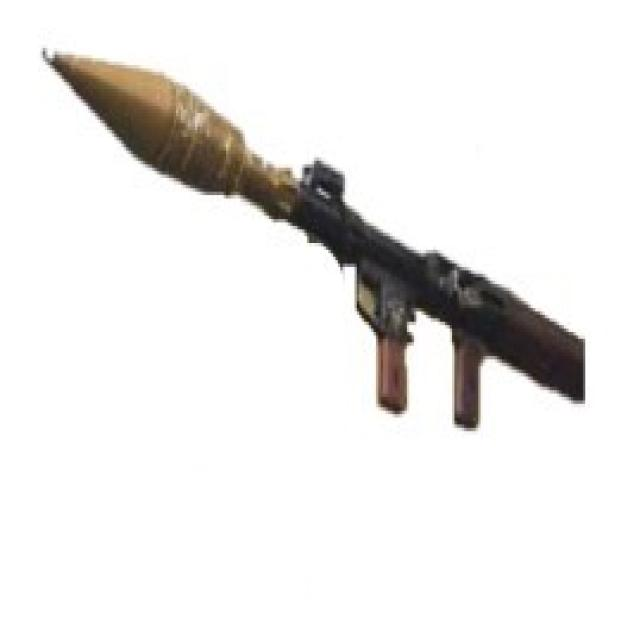bazooka: (36, 39, 589, 443)
